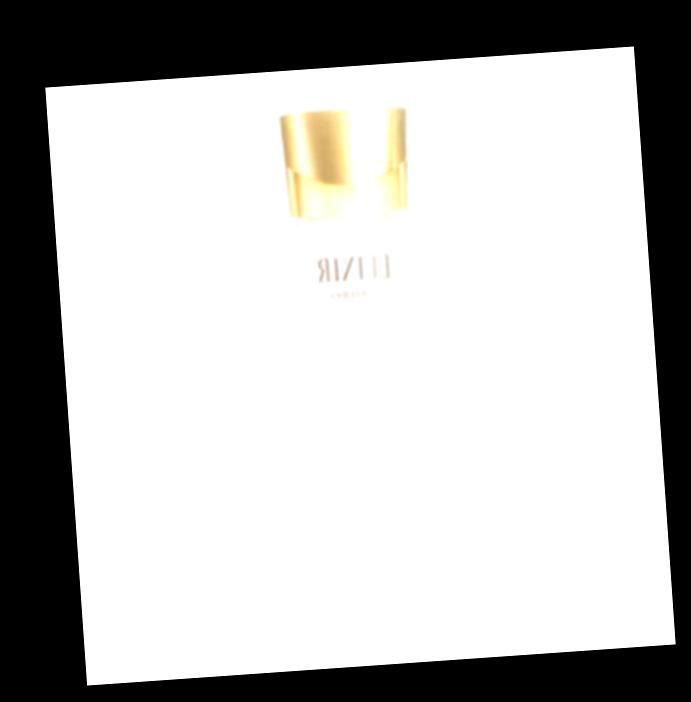cosmetic: (274, 103, 439, 623)
